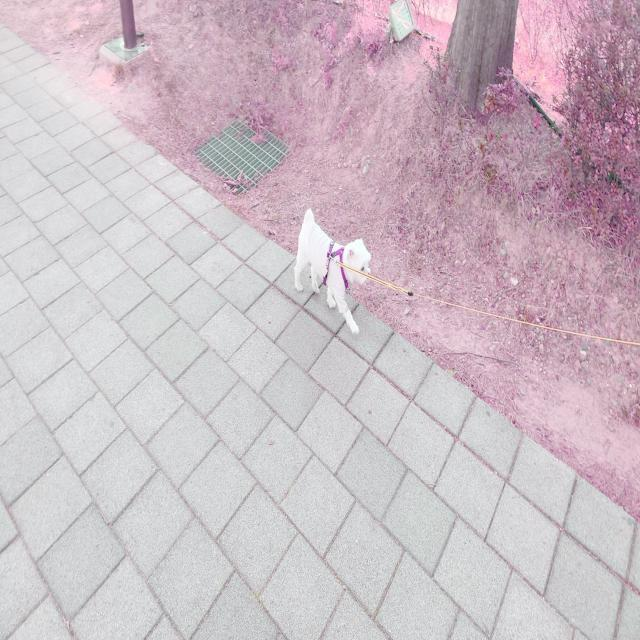Dog: (294, 208, 371, 336)
